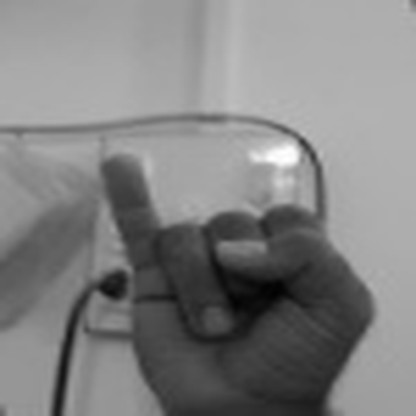i: (97, 145, 379, 416)
